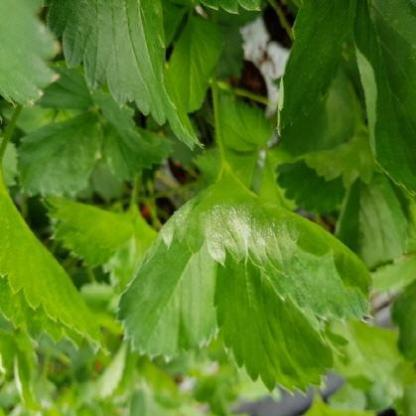Strawberry_Powdery_Mildew_Leaf: (185, 164, 375, 326), (115, 182, 220, 365)
